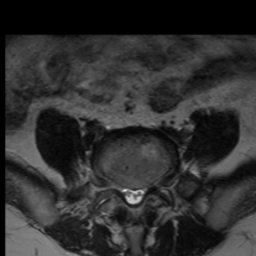CCS_severe_stenosis: (128, 180, 137, 211)
LFS_severe_stenosis: (145, 173, 156, 199)
LLS_normal: (137, 180, 145, 208)
RFS_stenosis: (110, 171, 120, 200)
RLS_normal: (120, 179, 128, 207)
